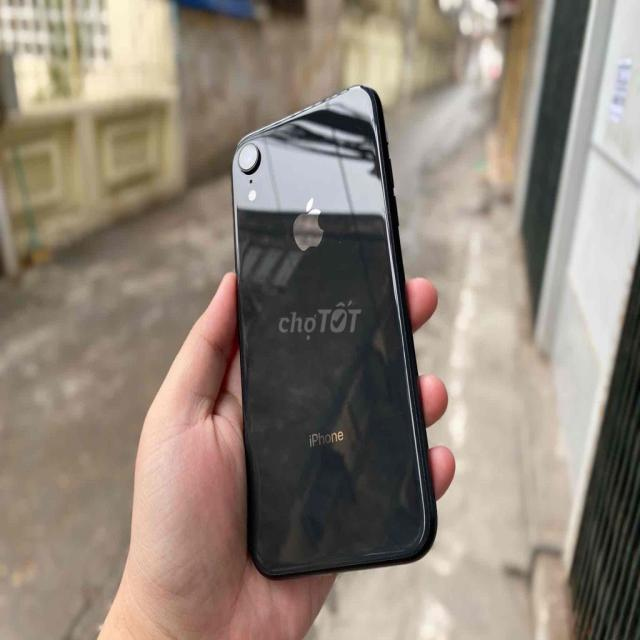gen_x_xs: (233, 87, 436, 577)
